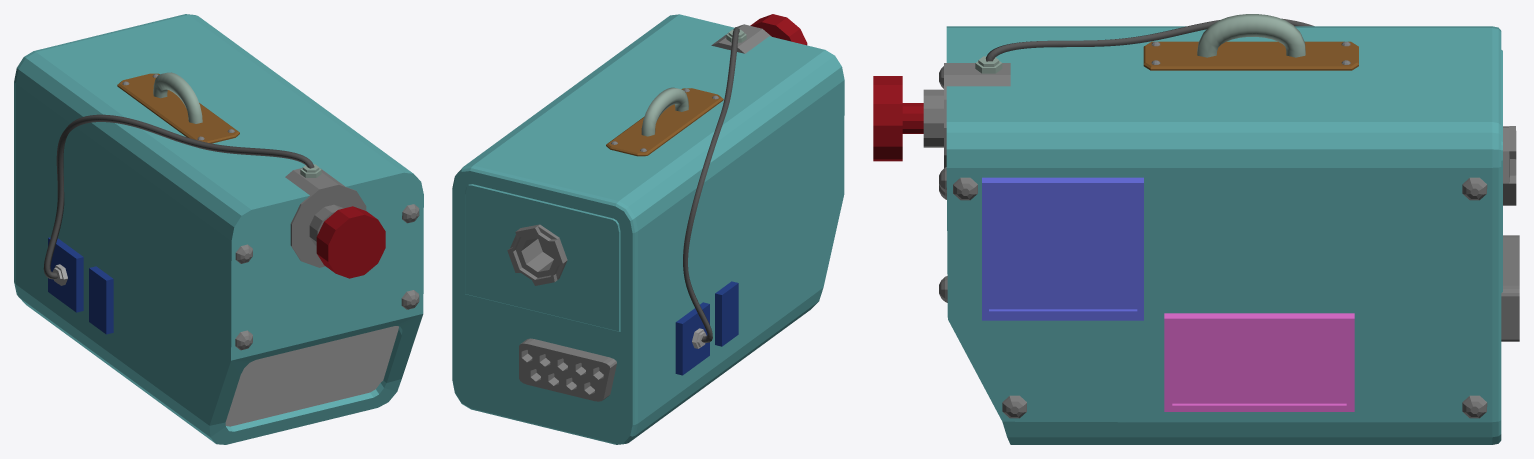
File: Storage.fbx
3 renders of one model, left to right at view 1: azimuth 30°, elevation 25°; view 2: azimuth 150°, elevation 25°; view 3: azimuth 270°, elevation 25°, orthographic. The views are drawn at different scales.
Parts seen in each view (by area): view 1: StorageBox01, geo_button.003; view 2: StorageBox01, geo_button.003; view 3: StorageBox01, geo_button.003.
Boxes of the visible parts, left/top/right/bottom form: StorageBox01: left=14, top=14, right=423, bottom=444; geo_button.003: left=316, top=206, right=385, bottom=278; StorageBox01: left=452, top=14, right=844, bottom=444; geo_button.003: left=750, top=14, right=807, bottom=45; StorageBox01: left=923, top=14, right=1519, bottom=444; geo_button.003: left=873, top=76, right=923, bottom=161.
Size of the model in its own units: 71.48 by 86.57 by 140.
